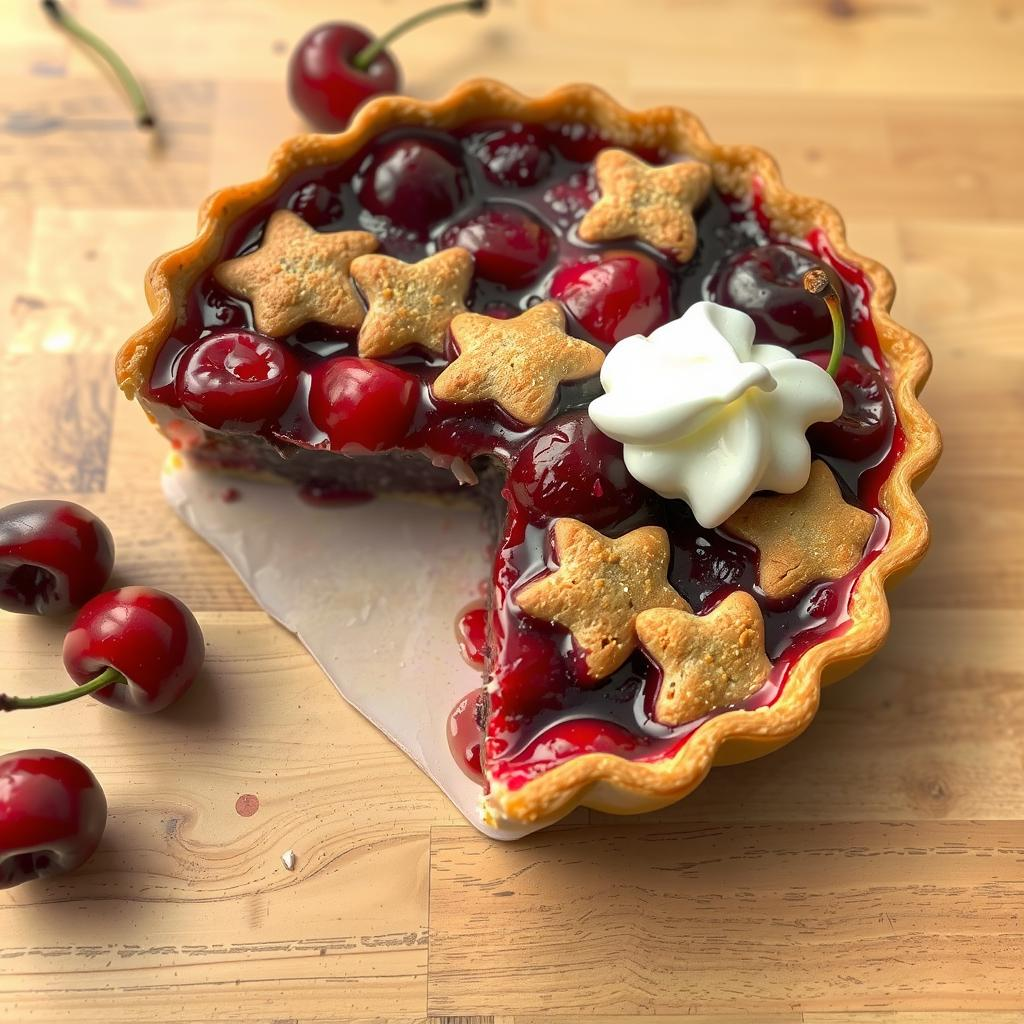pie: (113, 74, 957, 846)
